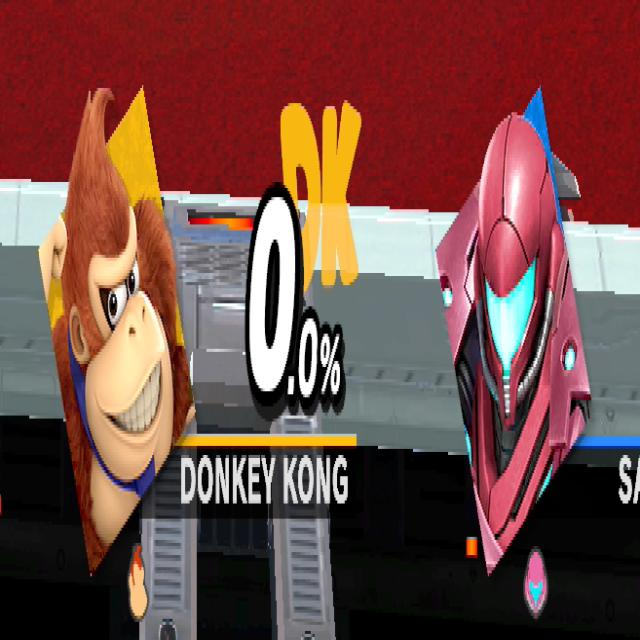dk: (53, 83, 188, 558)
samus: (439, 114, 588, 569)
